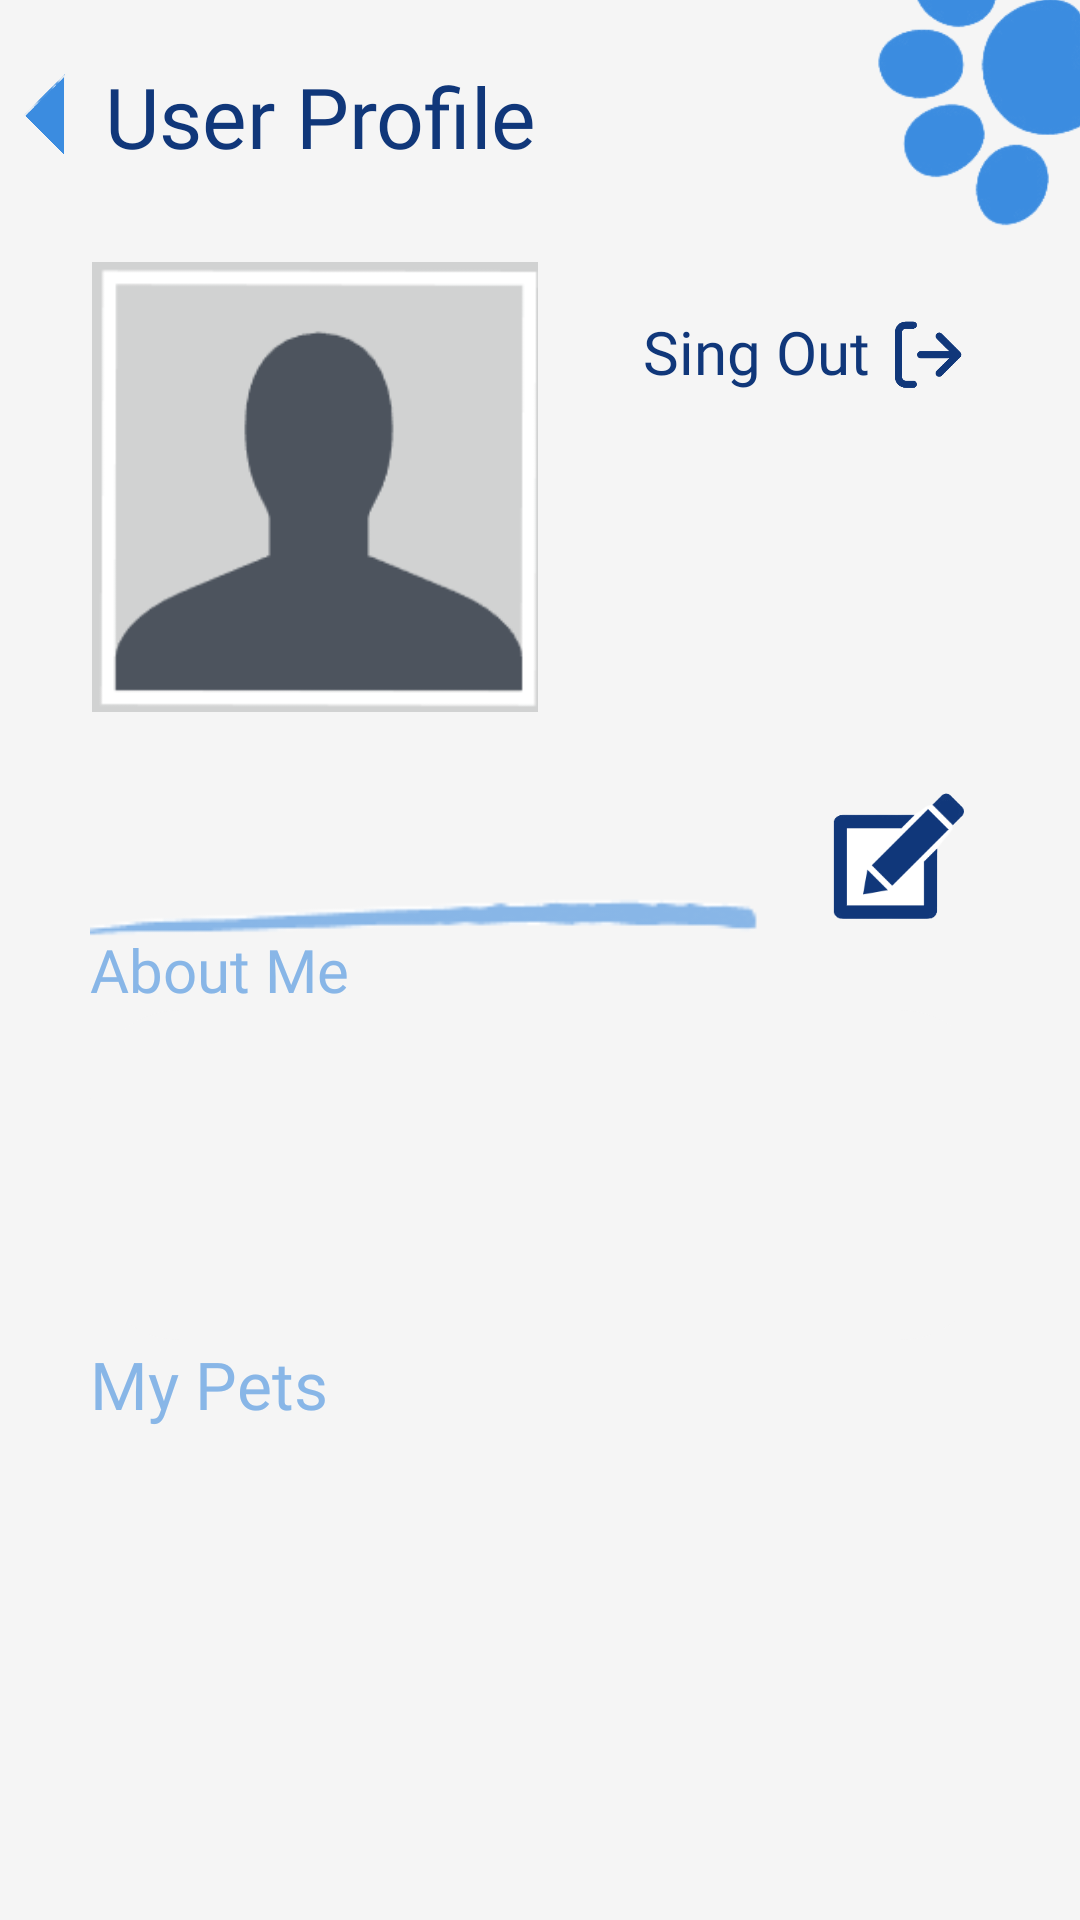

Where icons sit on this 1080x1920 app screen, as Rect(x1, y1, x2, y2):
arrow: Rect(25, 74, 65, 154)
edit: Rect(833, 793, 964, 919)
